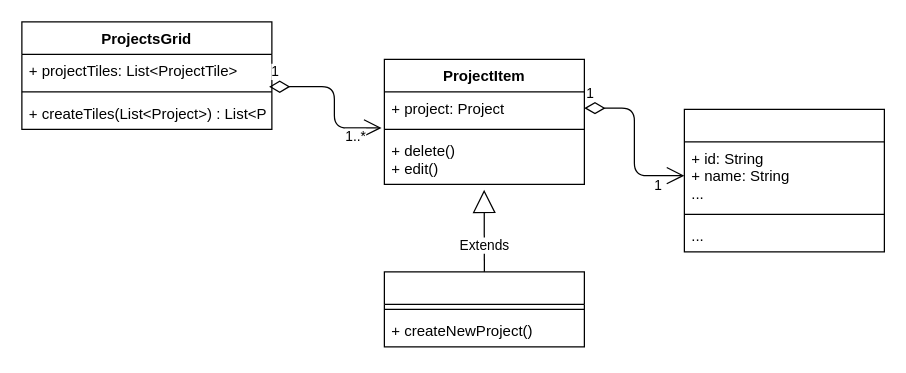
Some shapes in this 906 by 373 pixel diagram are drawn without their labels. Each missing label, with the box of its shape:
NewProjectItem: (383, 271, 584, 347)
ProjectState: (683, 108, 884, 252)
